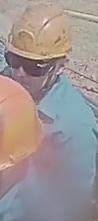goggles: (3, 52, 56, 77)
helmet: (0, 73, 44, 173), (5, 0, 73, 60)
vest: (39, 72, 98, 179), (0, 174, 83, 221)
